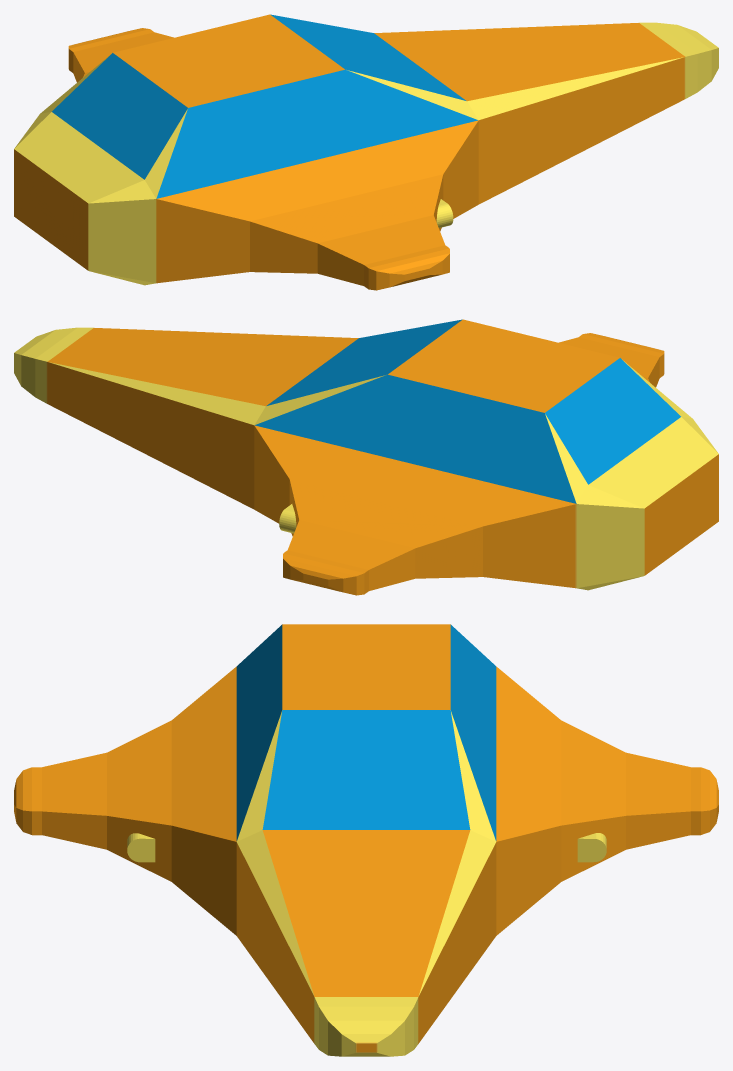
The model's file is Car1.glb.
The picture shows the model from 3 angles, top to bottom: view 1: azimuth 30°, elevation 25°; view 2: azimuth 150°, elevation 25°; view 3: azimuth 270°, elevation 25°; orthographic projection. The views are drawn at different scales.
Parts seen in each view (by area): view 1: Cube.001; view 2: Cube.001; view 3: Cube.001, LightCase.001, LightCase.
Boxes of the visible parts, x1,y1,x2,y2 form: Cube.001: (14, 14, 718, 290); Cube.001: (14, 319, 718, 595); Cube.001: (14, 624, 718, 1056); LightCase.001: (577, 833, 606, 862); LightCase: (127, 833, 155, 862).
Size of the model in its own units: 13.13 by 3 by 10.86.
Materials: 2 (2 with a texture image).
